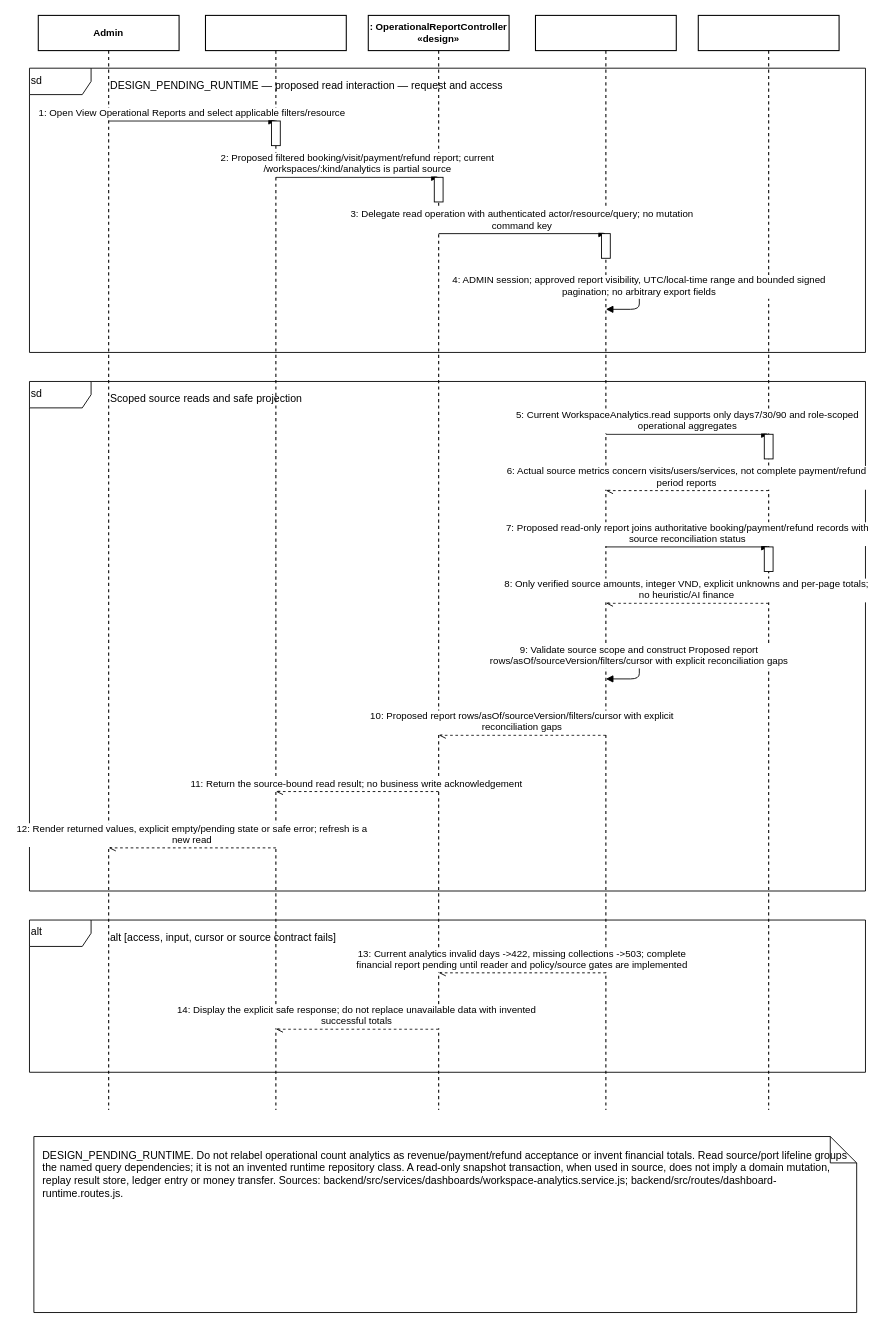
The diagram is 884 pixels wide and 1329 high, and some of its shapes have lost their labels. The box of each missing label's shape, as (x1, y1, x2, y2) in pixels:
: Client view: (205, 14, 346, 1110)
: OperationalReportReader «design»: (535, 14, 676, 1110)
: Read source / injected port: (697, 14, 839, 1110)
